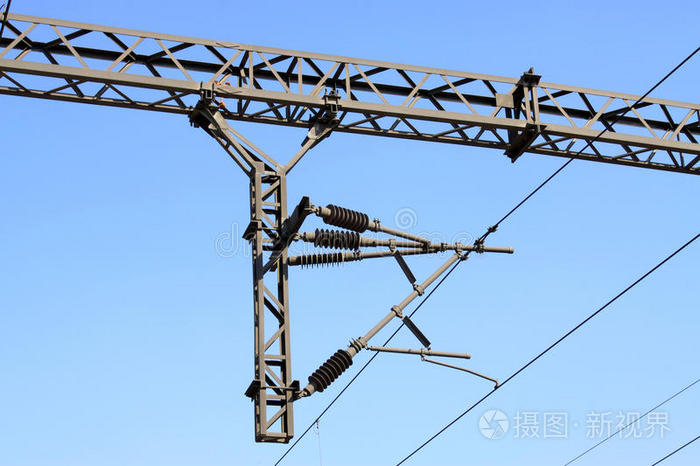insulator: (306, 350, 353, 392), (324, 203, 369, 232), (314, 227, 364, 249), (299, 247, 344, 268)
